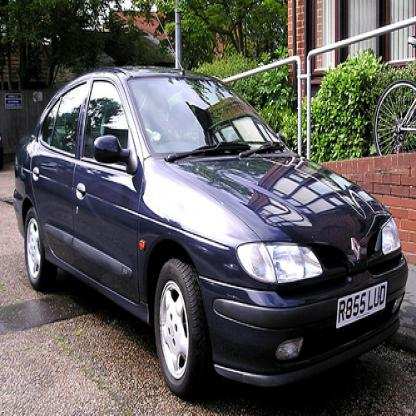car: (12, 63, 409, 398)
